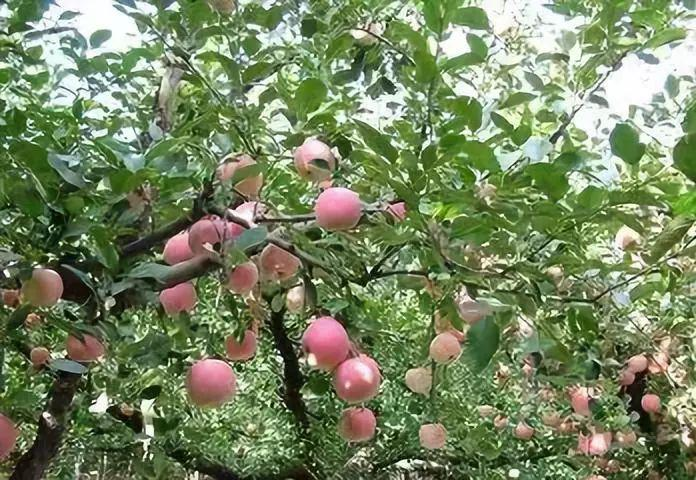apple: (184, 359, 233, 404), (302, 317, 347, 366), (333, 357, 380, 403), (313, 186, 361, 229), (293, 137, 336, 181), (22, 266, 62, 305), (188, 219, 227, 256), (337, 406, 376, 442), (66, 333, 103, 362), (430, 333, 459, 365), (165, 235, 195, 265), (579, 425, 610, 454), (419, 422, 446, 449), (406, 367, 433, 394), (572, 387, 598, 415), (641, 393, 661, 414)
